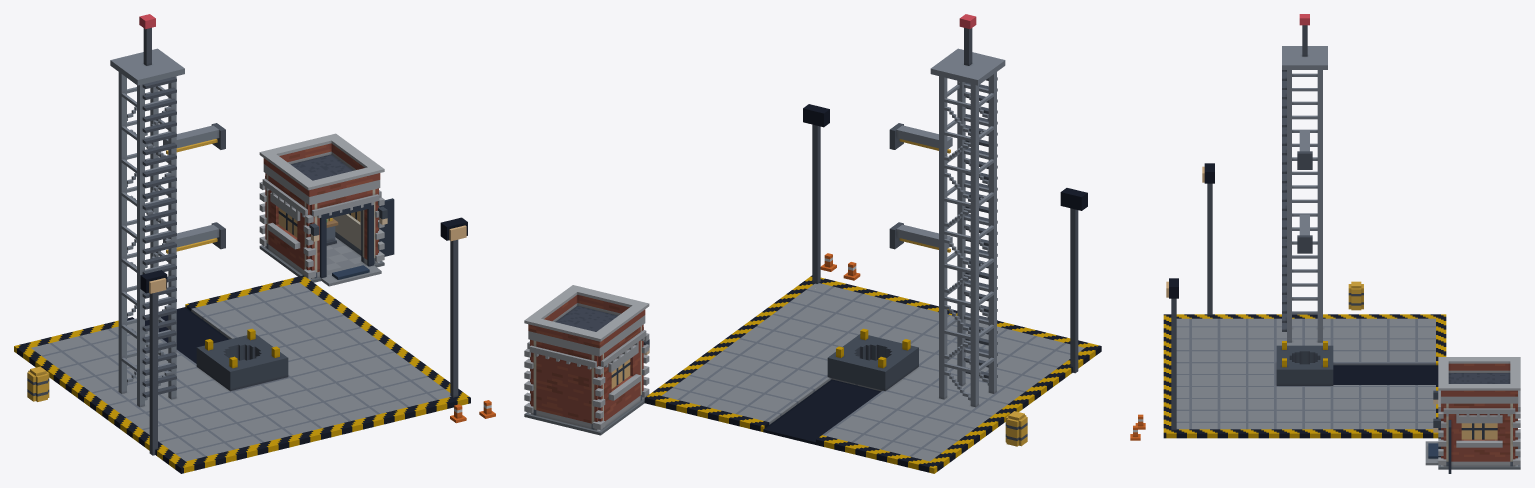
The model's file is pad_e2_l1.glb.
The picture shows the model from 3 angles, left to right: view 1: azimuth 30°, elevation 25°; view 2: azimuth 150°, elevation 25°; view 3: azimuth 270°, elevation 25°; orthographic projection. The views are drawn at different scales.
Visible parts, largest first — view 1: Base, CutRoof, CutPZ, CutNX; view 2: Base, CutRoof, CutNZ, CutNX; view 3: Base, CutRoof, CutPX, CutPZ, CutNZ.
Part boxes in pixels (x1,y1,x2,y2): Base: (14,14,495,473); CutRoof: (259,133,384,205); CutPZ: (303,188,394,256); CutNX: (262,175,307,250); Base: (524,14,1101,473); CutRoof: (524,285,649,356); CutNZ: (524,339,605,407); CutNX: (601,327,646,401); Base: (1130,14,1520,473); CutRoof: (1438,357,1520,403); CutPX: (1443,403,1515,447); CutPZ: (1433,390,1451,452); CutNZ: (1510,390,1520,446).
Bounding box in the file's own units: 15.9 × 13.9 × 15.2.
